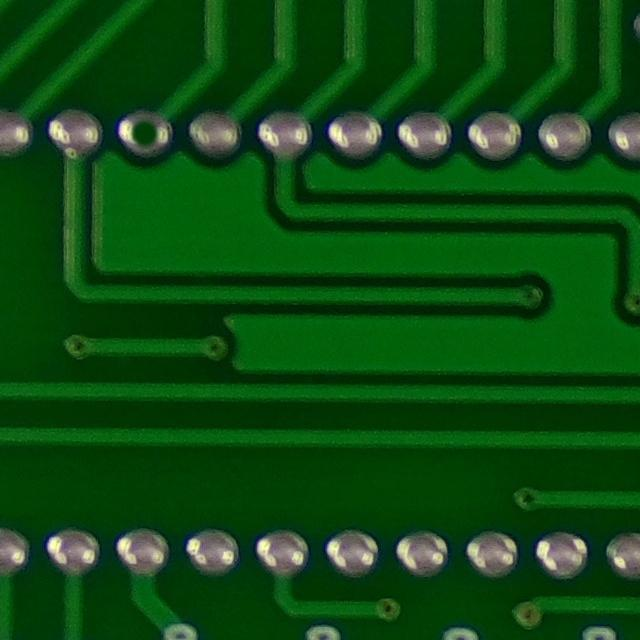missing_hole: (115, 103, 178, 168)
